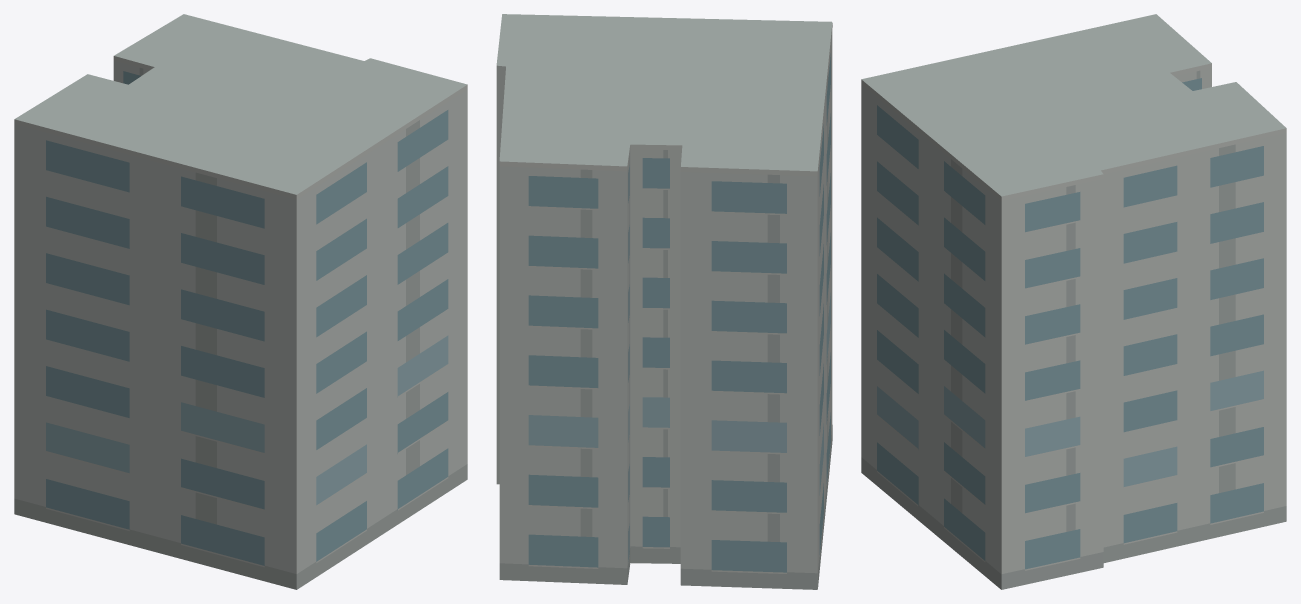
File: survey-upis-32933069.glb
3 renders of one model, left to right at view 1: azimuth 30°, elevation 25°; view 2: azimuth 150°, elevation 25°; view 3: azimuth 270°, elevation 25°, orthographic. The views are drawn at different scales.
Visible parts, largest first — view 1: survey-upis-32933069.tmp; view 2: survey-upis-32933069.tmp; view 3: survey-upis-32933069.tmp.
Part boxes in pixels (<box>): survey-upis-32933069.tmp: <box>14,14,467,589</box>; survey-upis-32933069.tmp: <box>496,14,832,589</box>; survey-upis-32933069.tmp: <box>861,14,1286,589</box>.
Bounding box in the file's own units: 20.66 × 20.75 × 20.35.
